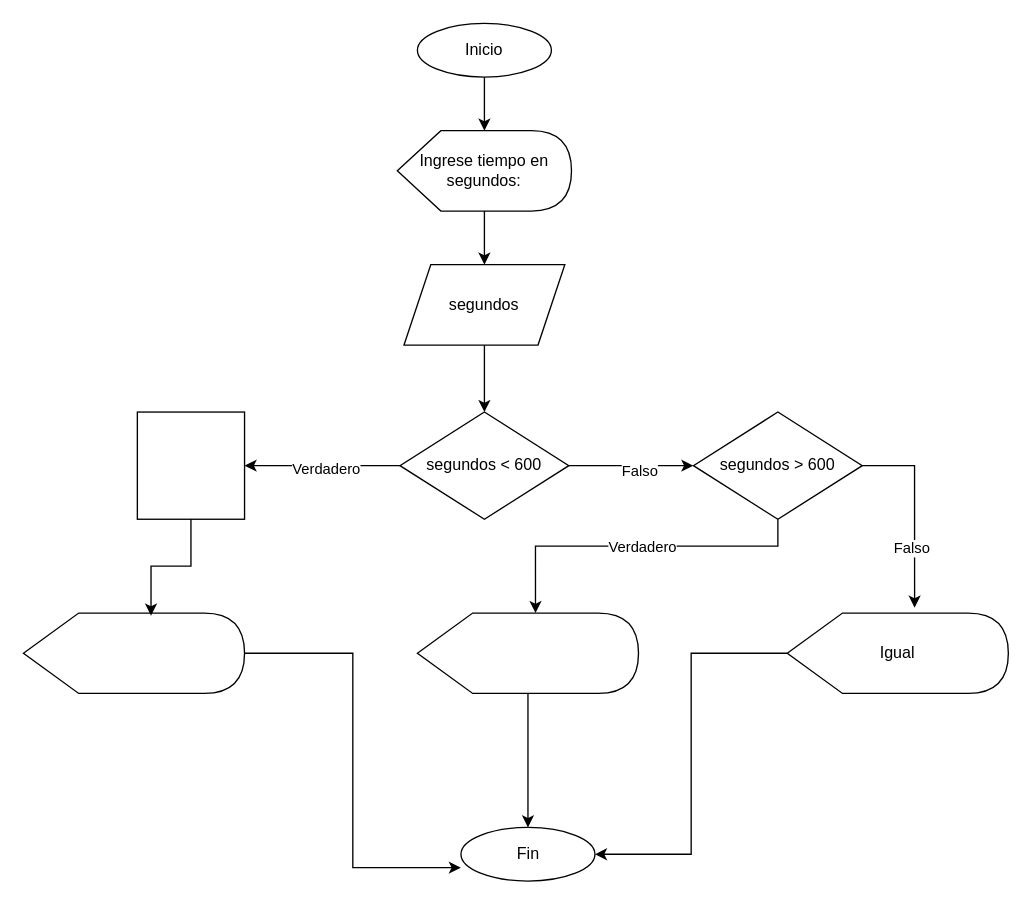
Some shapes in this 1032 by 905 pixel diagram are drawn without their labels. Each missing label, with the box of its shape:
Faltan "resta" segundos para llegar a 10 minutos: (22, 612, 245, 693)
Mayor: (416, 612, 639, 693)
resta = 600 - segundos: (136, 411, 245, 519)
